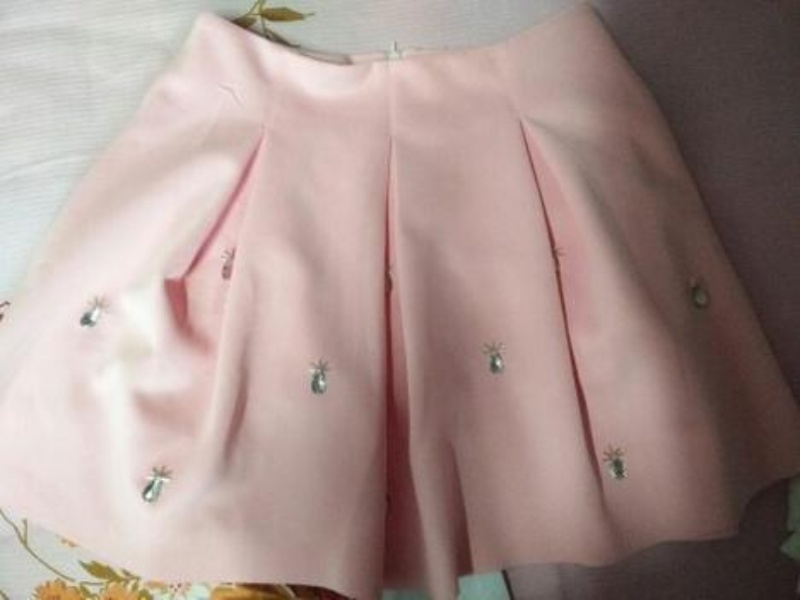skirt: (0, 2, 798, 598)
